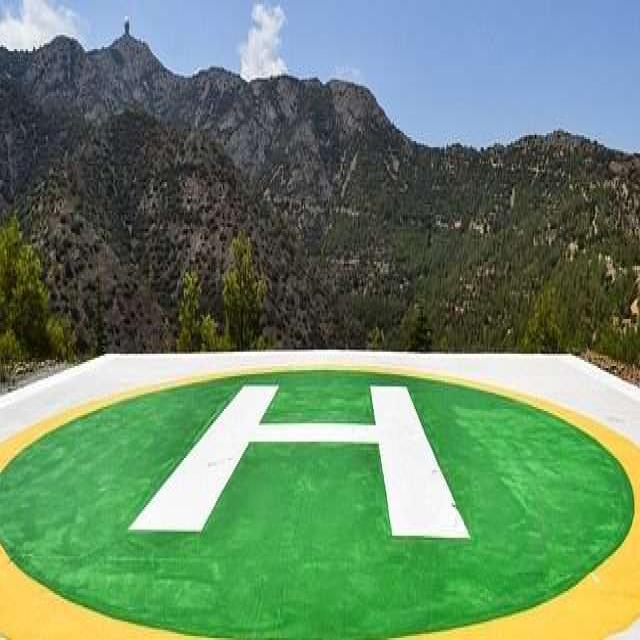helipad: (0, 358, 639, 638)
